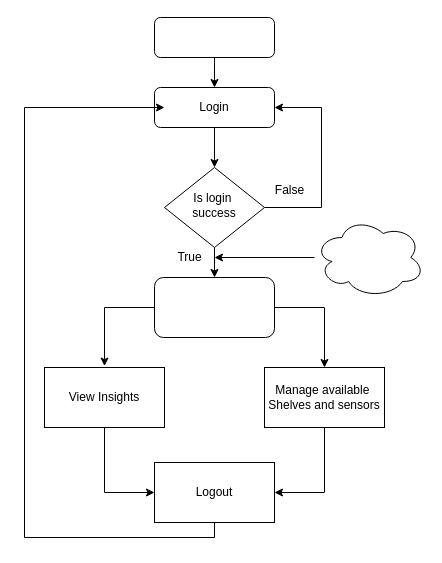
The diagram is 442 pixels wide and 563 high, and some of its shapes have lost their labels. Here are the shapes that lost their labels. From the top down, the centre of each, then its label:
At point (214, 37): "Start".
At point (369, 257): "Data and logs from backend".
At point (214, 307): "Dashboard module".
